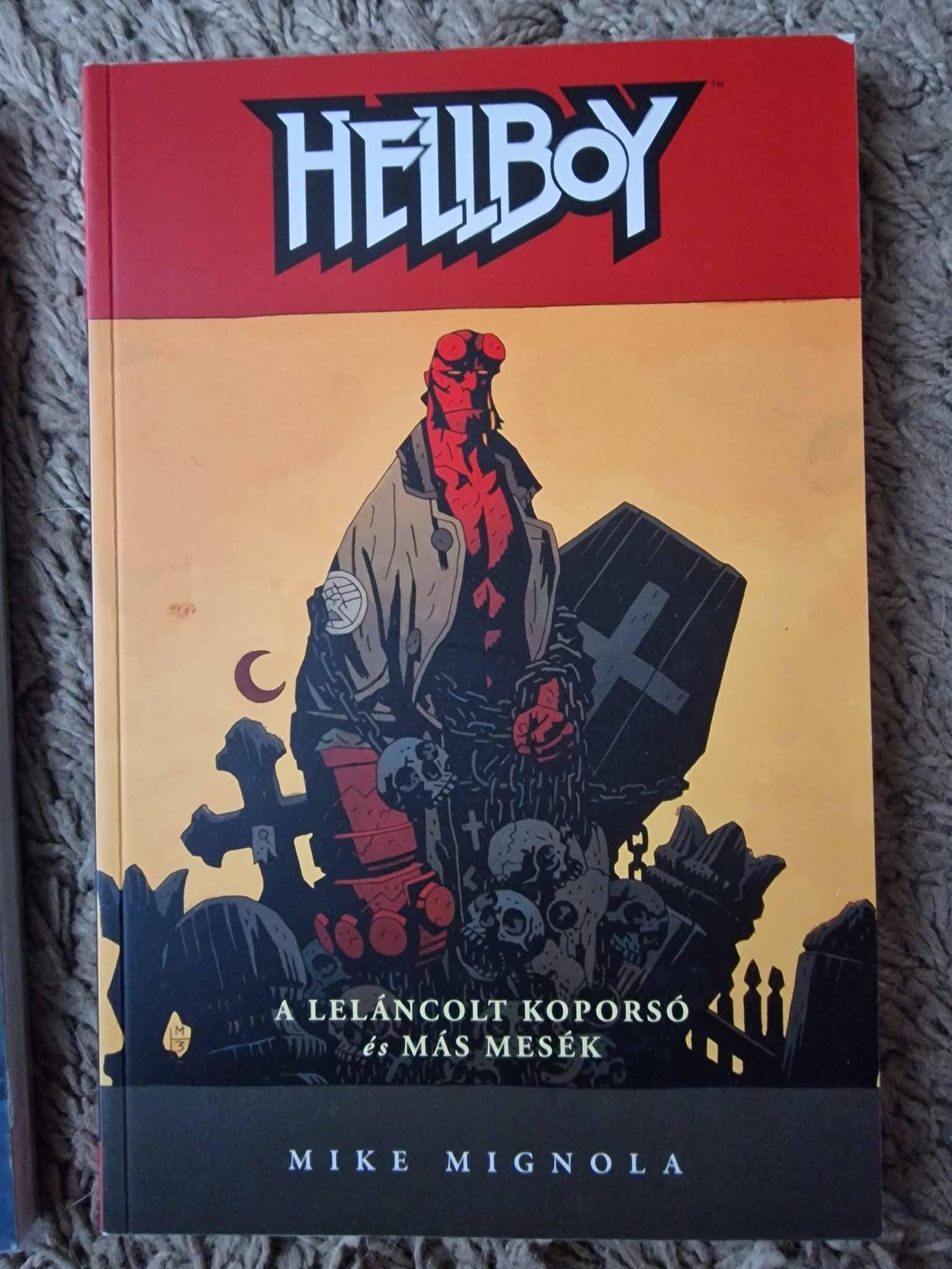comic: (83, 37, 880, 1248)
